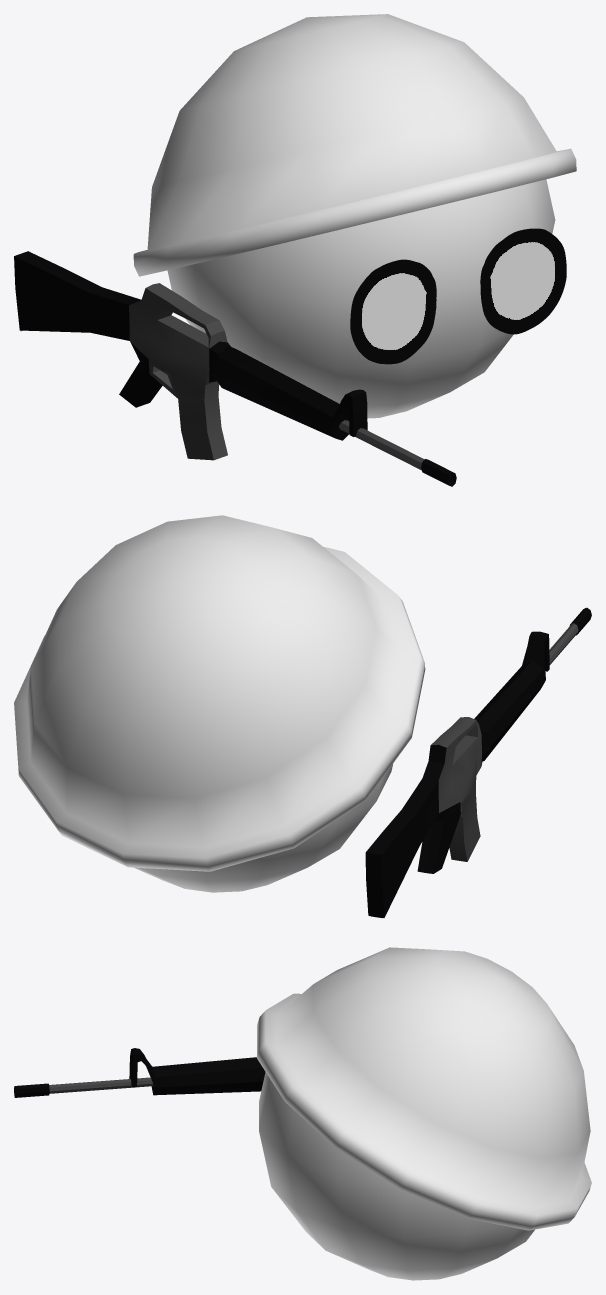
File: shooter.fbx
3 views of the same model, one above another, from view 1: azimuth 30°, elevation 25°; view 2: azimuth 150°, elevation 25°; view 3: azimuth 270°, elevation 25° (orthographic). The views are drawn at different scales.
Visible parts, largest first — view 1: helmet, countryball, m16, face.004; view 2: helmet, m16, countryball; view 3: helmet, countryball, m16.
Part boxes in pixels (x1,y1,x2,y2): helmet: (133,14,576,276); countryball: (167,179,555,418); m16: (14,251,456,486); face.004: (350,228,566,364); helmet: (14,515,425,871); m16: (365,607,591,918); countryball: (134,763,393,892); helmet: (257,947,591,1230); countryball: (259,1072,534,1280); m16: (14,1048,265,1097).
Size of the model in its own units: 263 by 204 by 352.
4 materials, 1 textured.
